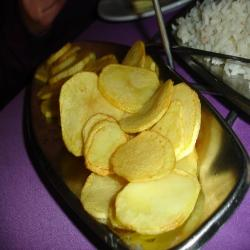fries: (26, 48, 216, 246)
rice: (175, 2, 250, 75)
